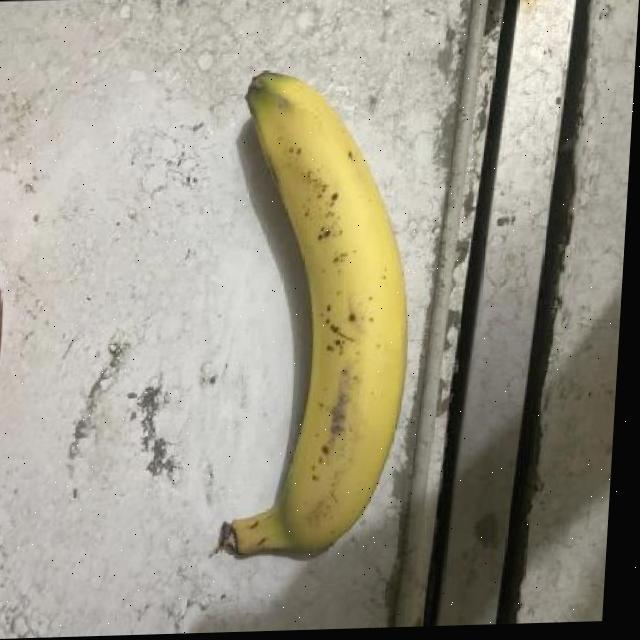banana: (206, 57, 424, 565)
